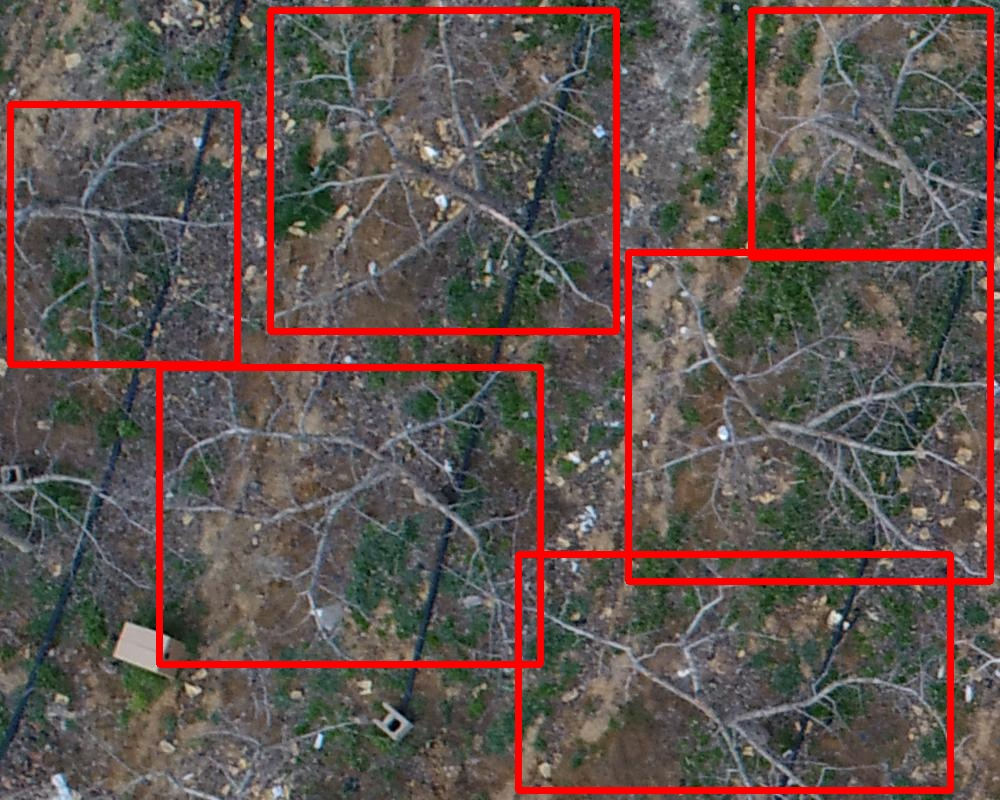apple: (628, 252, 990, 581), (159, 367, 540, 664), (270, 10, 616, 331), (518, 554, 950, 790), (751, 10, 990, 257), (10, 104, 237, 364)
